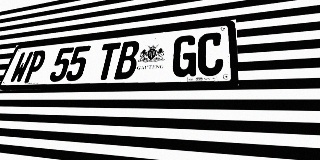5: (64, 45, 91, 81), (48, 47, 75, 82)
B: (114, 40, 141, 79)
C: (197, 32, 223, 76)
G: (171, 34, 198, 77)
P: (22, 50, 48, 83)
T: (94, 42, 121, 80)
W: (8, 51, 34, 83)
